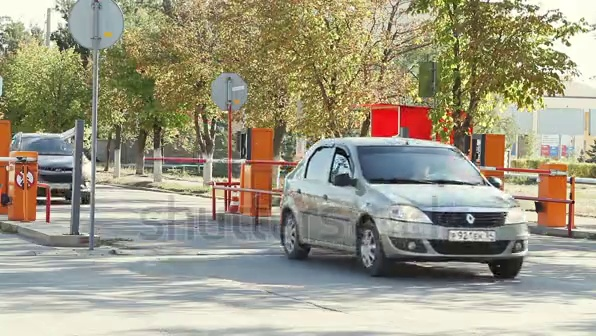licenseplate: (445, 231, 510, 247)
